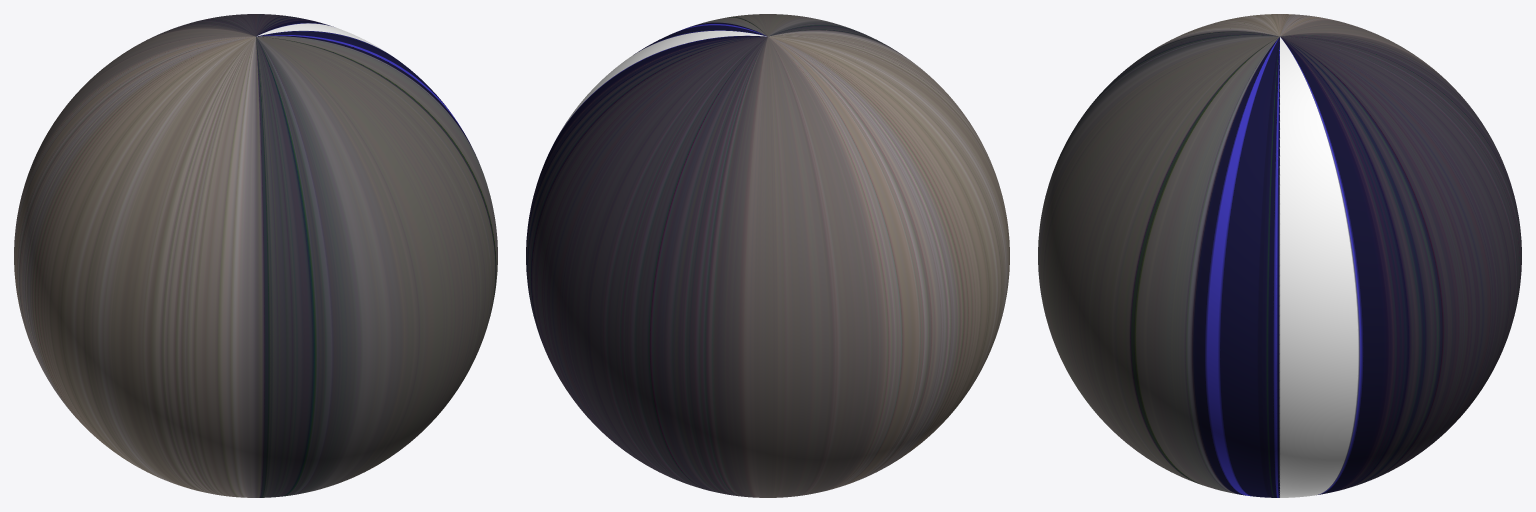
3 renders of one model, left to right at view 1: azimuth 30°, elevation 25°; view 2: azimuth 150°, elevation 25°; view 3: azimuth 270°, elevation 25°, orthographic.
Parts seen in each view (by area): view 1: Geode; view 2: Geode; view 3: Geode.
Part boxes in pixels (left/top/right/bottom): Geode: left=14, top=14, right=497, bottom=497; Geode: left=526, top=14, right=1009, bottom=497; Geode: left=1038, top=14, right=1521, bottom=497.
Bounding box in the file's own units: 2.49 × 2.49 × 2.49.
